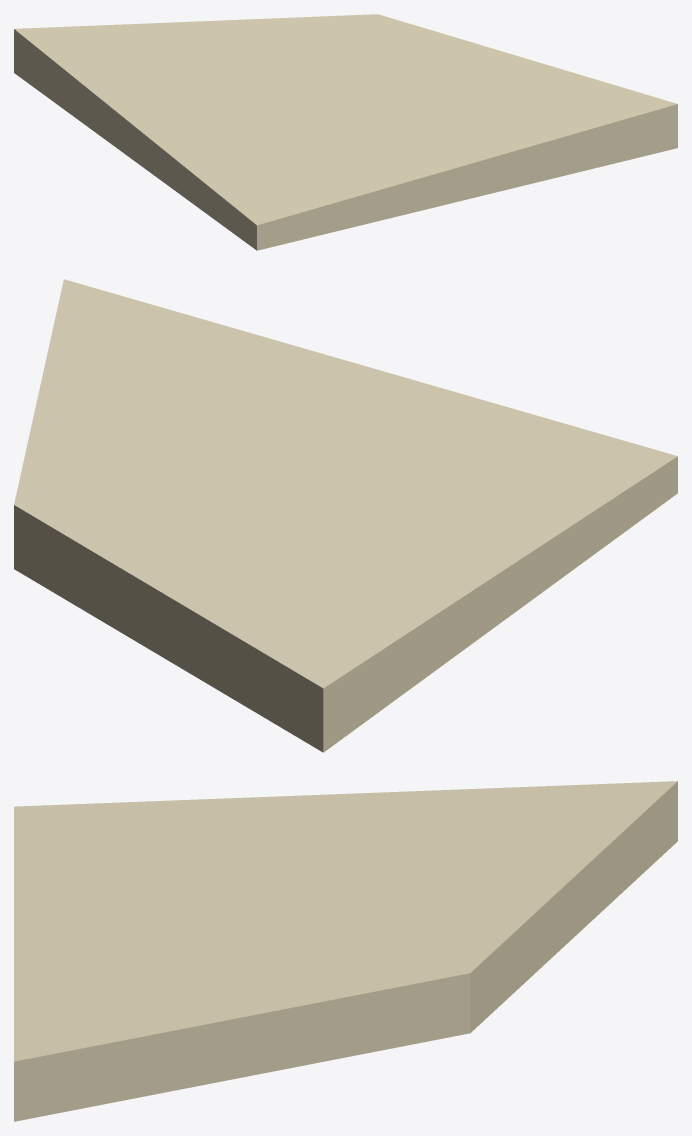
The model's file is Destroy_Plate_11.fbx.
3 views of the same model, one above another, from view 1: azimuth 30°, elevation 25°; view 2: azimuth 150°, elevation 25°; view 3: azimuth 270°, elevation 25° (orthographic). The views are drawn at different scales.
Visible parts, largest first — view 1: Destroy_Plate_11; view 2: Destroy_Plate_11; view 3: Destroy_Plate_11.
Boxes of the visible parts, <box> form: Destroy_Plate_11: <box>14,14,677,250</box>; Destroy_Plate_11: <box>14,279,677,752</box>; Destroy_Plate_11: <box>14,781,677,1121</box>.
Bounding box in the file's own units: 300 × 30 × 300.
